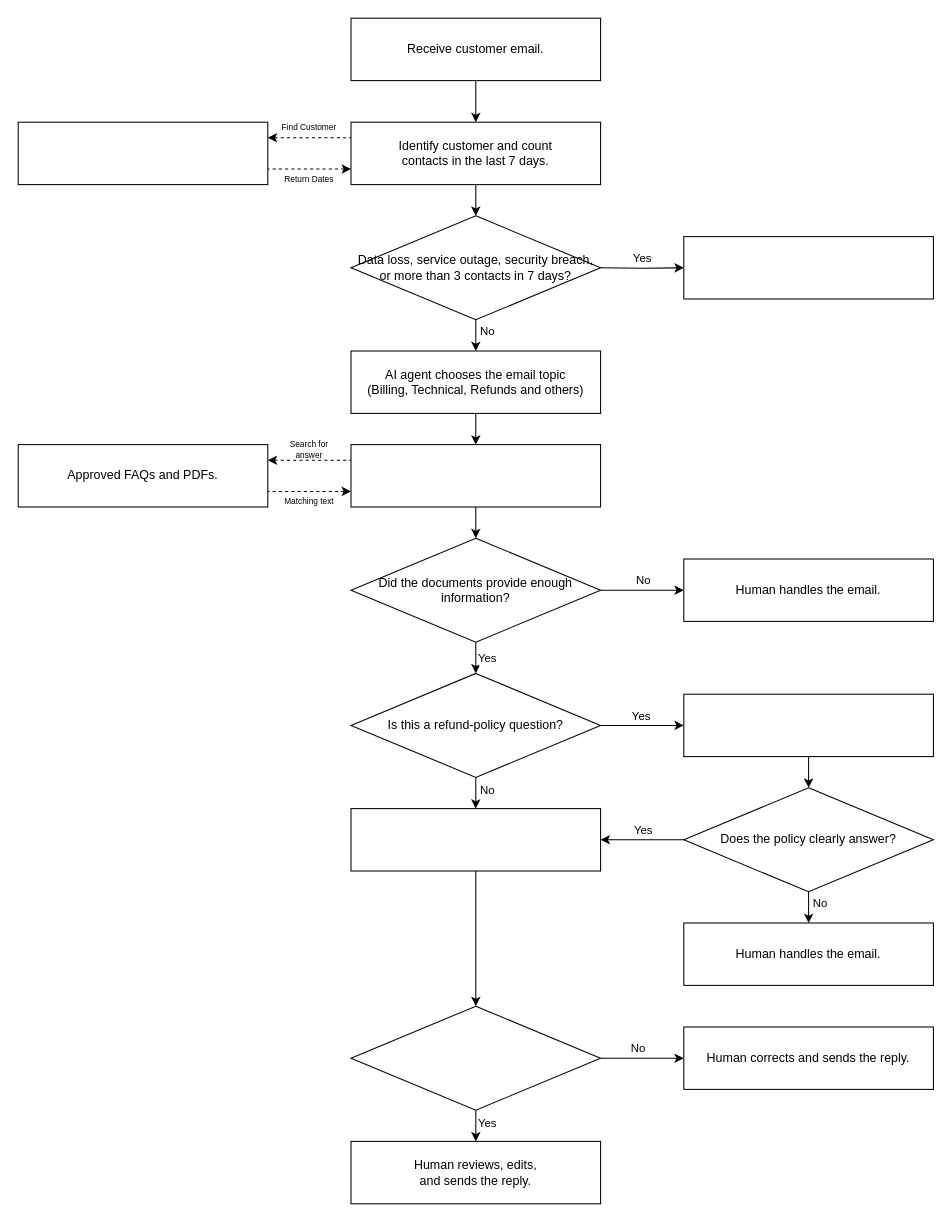
This 952x1222 diagram has some shape labels left out. The centre of each missing label's shape, as x and y in pixels:
AI agent drafts the response using approved facts.: point 475,839
AI agent sends a document search request.: point 475,475
Are all facts in the draft supported?: point 475,1057
Check the current approved refund policy.: point 808,725
Customer contact history.: point 142,153
Flag the reason and topic. Send to a human. No AI draft.: point 808,267
